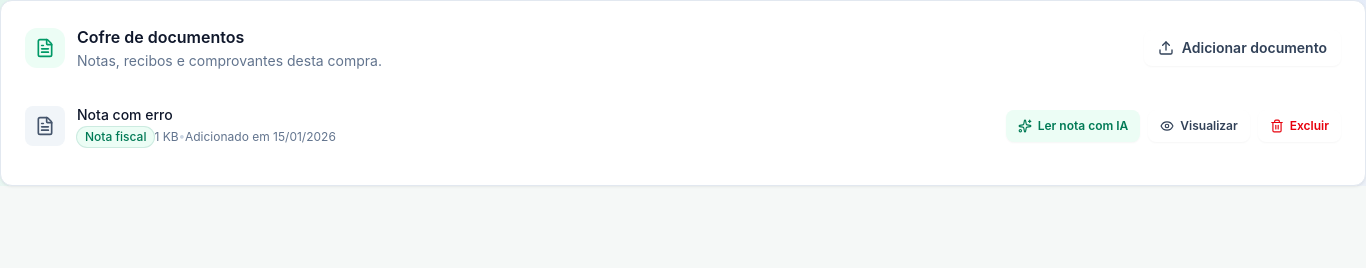
Scenario: PurchaseDocumentsSection — extração com documento inexistente (404) › outros erros (500) NÃO removem o documento da lista
The width and height of the screenshot is (1366, 268).
Expected: the text "Nota com erro" is shown, [77,106,173,123]
What coordinates should you click on to do the following:
click the button "Ler nota com IA"
I would click on:
 (1073, 126)
Its box is [1006,110,1140,142].
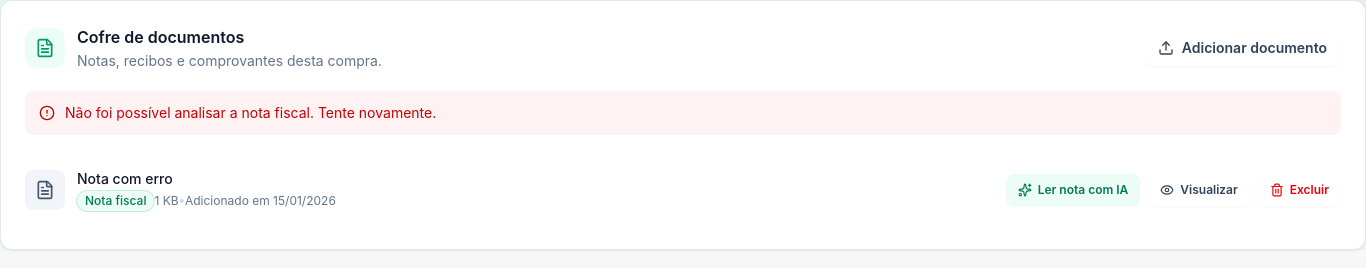
Expected: the text "Nota com erro" is shown, [77,170,173,187]
Expected: the text "Não foi possível analisar a nota fiscal. Tente novamente." is shown, [65,103,436,123]
